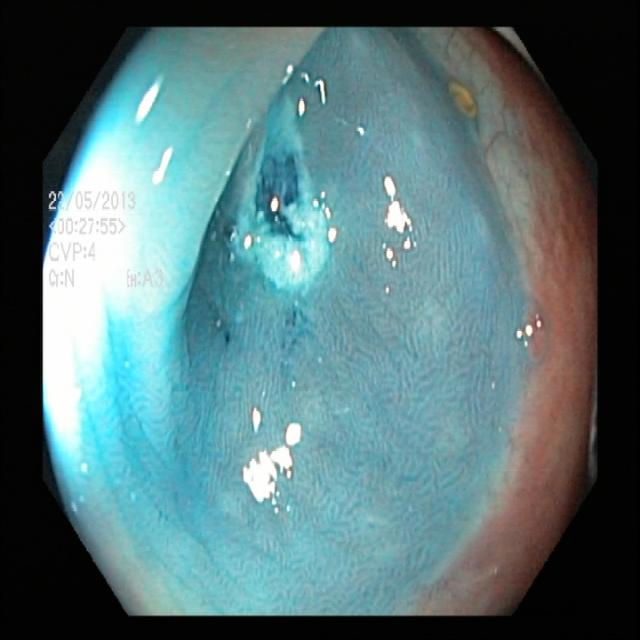dyed-resection-margins: (230, 79, 343, 286)
